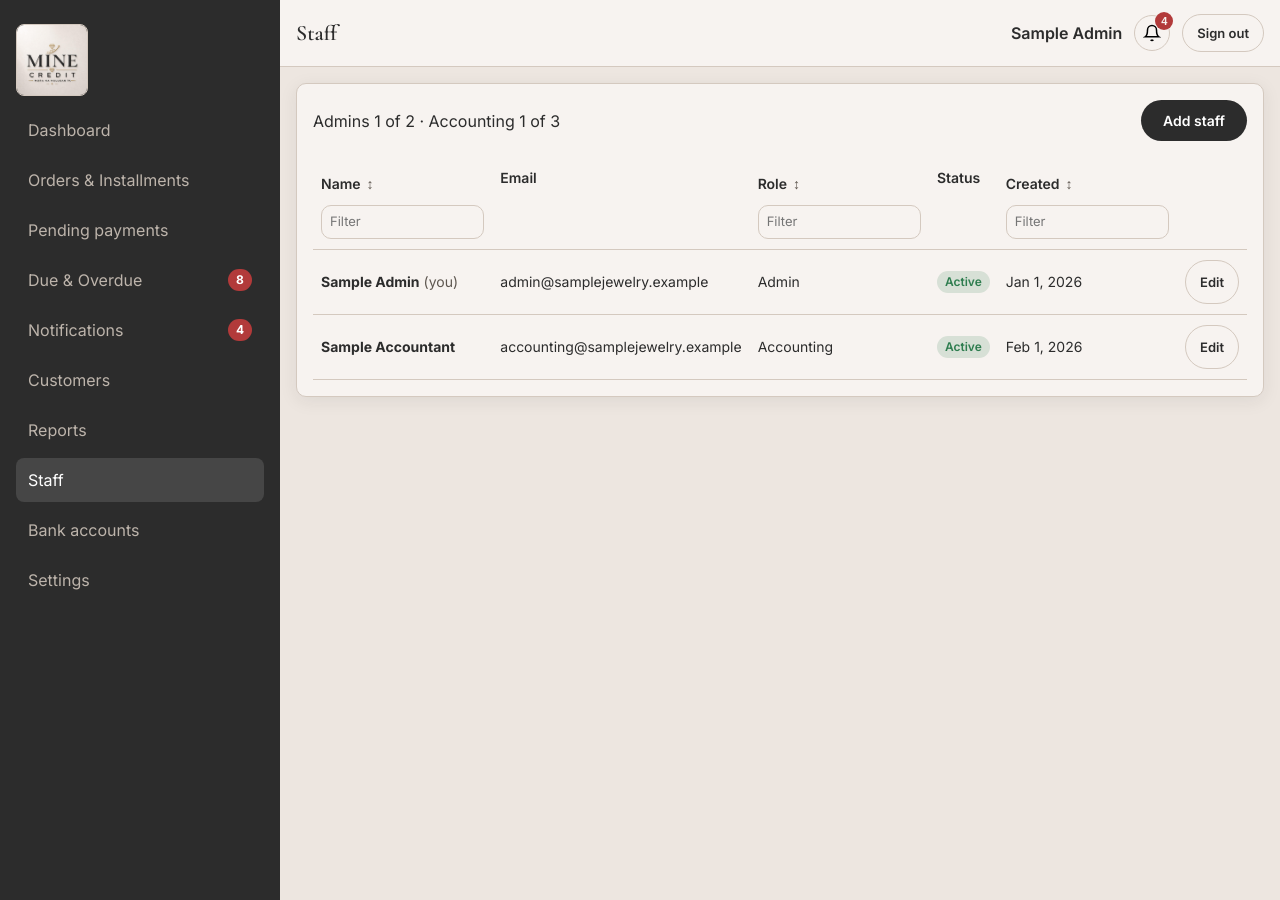
it: admin staff page › shows the server message when editing fails by demoting the last admin
Check: the text "Sample Accountant" is shown, box [321,338,455,355]
Click the button with aria-label "Edit Sample Accountant". click: (1212, 346)
box: [1185,324,1239,368]
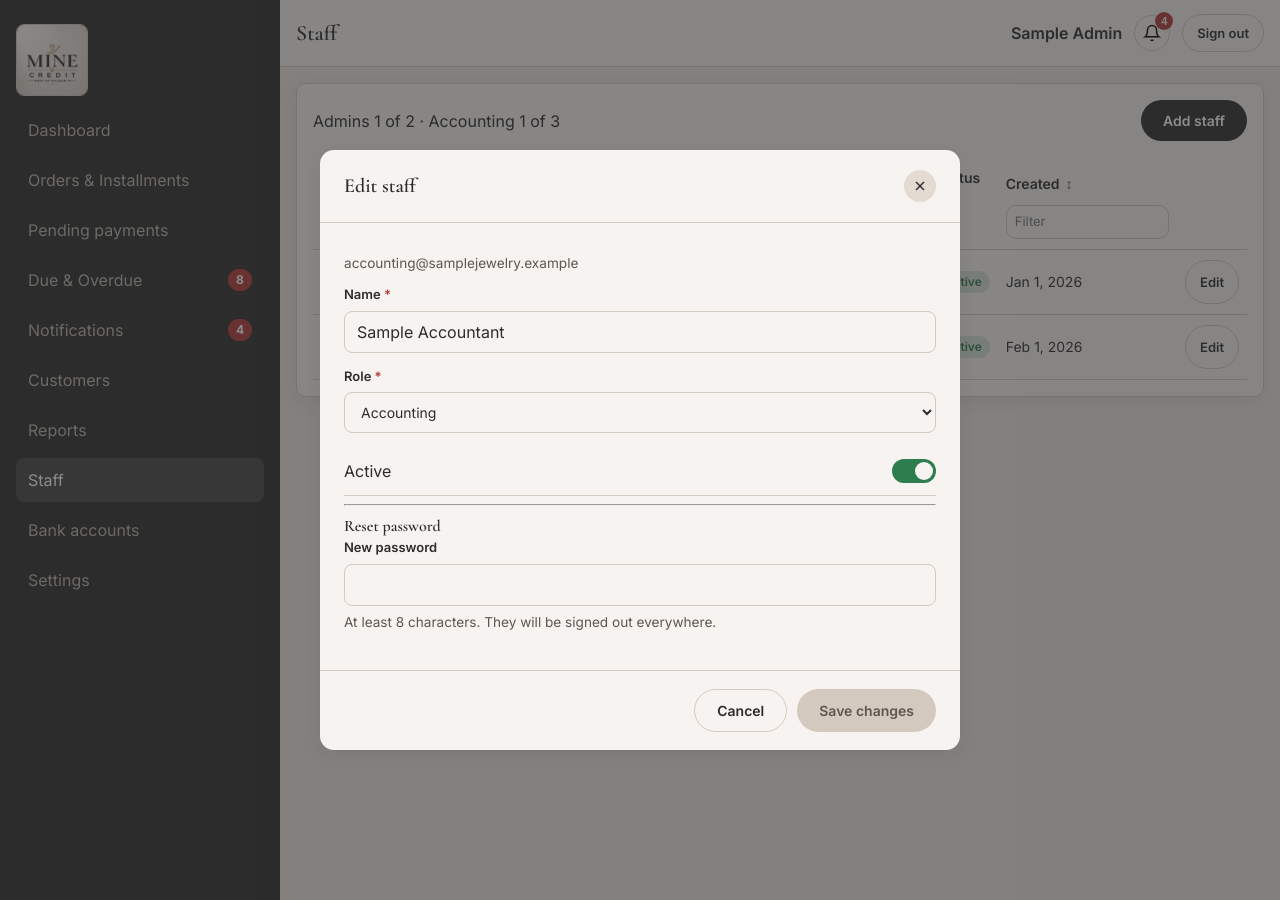
Replace the text in the field labelled "Name" with "Renamed". click: (640, 332)
box: [344,311,936,353]
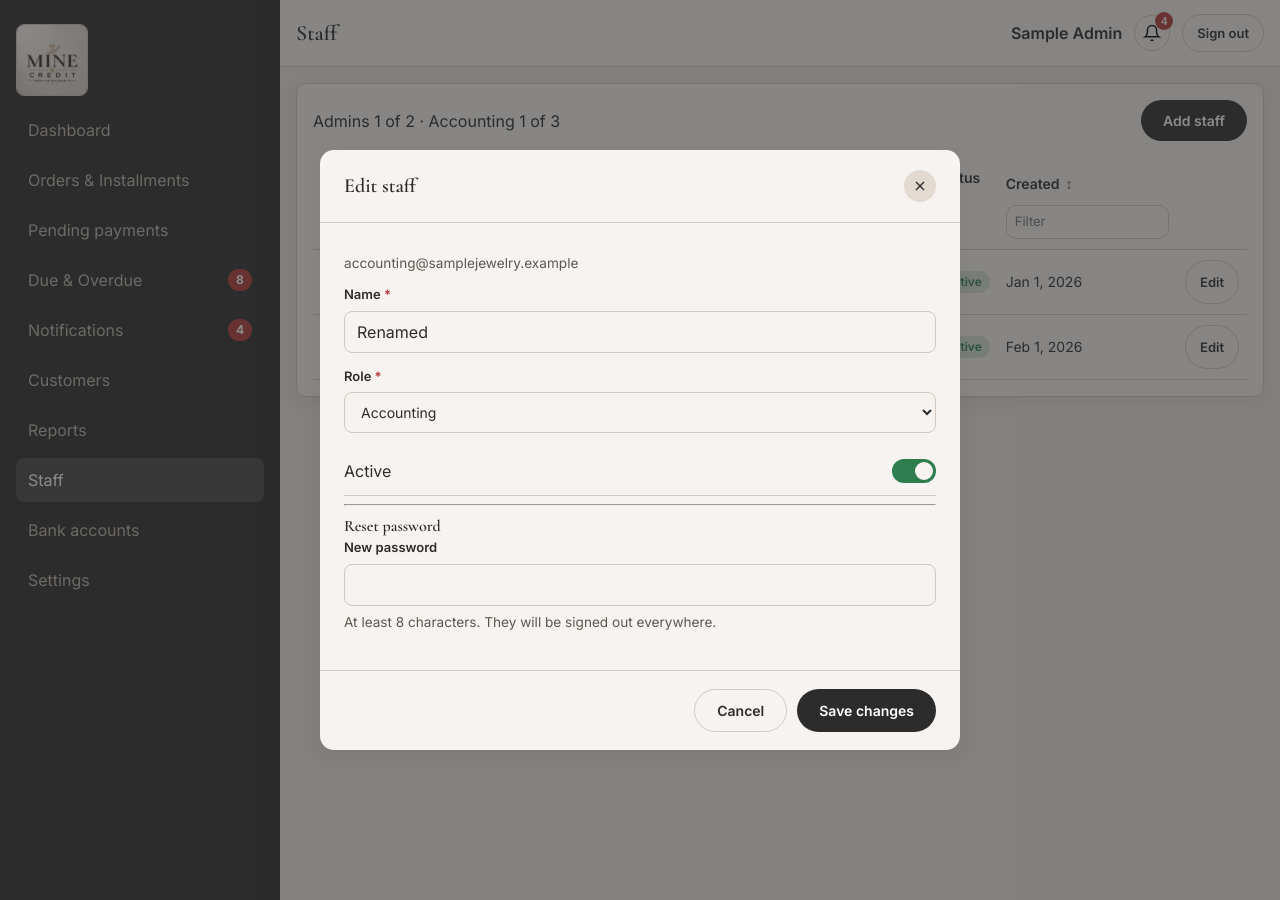
Click the button "Save changes". click: (867, 711)
box: [797,689,936,732]
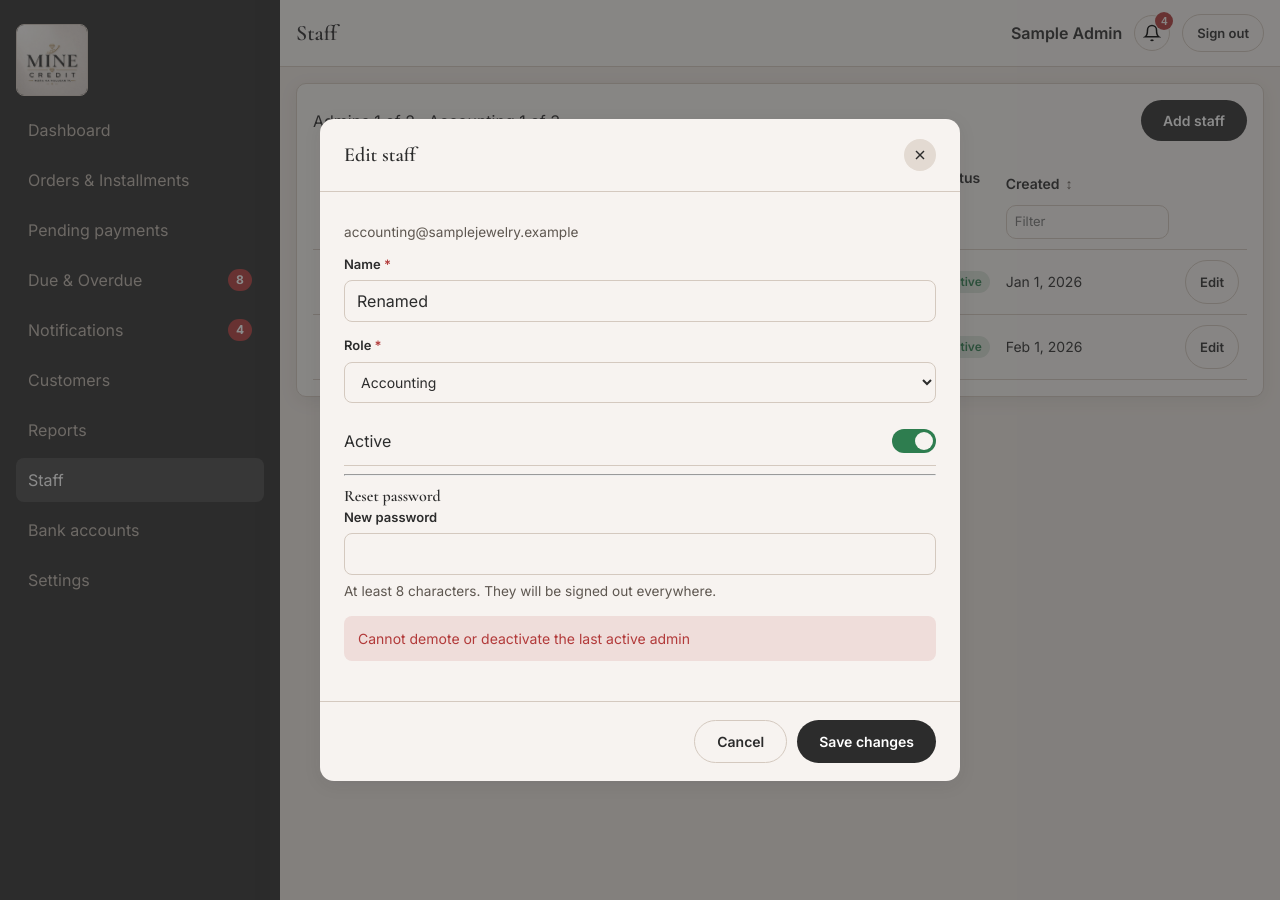
Check: the dialog is shown, box [320,119,960,781]
Check: the message reads "Cannot demote or deactivate the last active admin", box [358,630,690,647]
